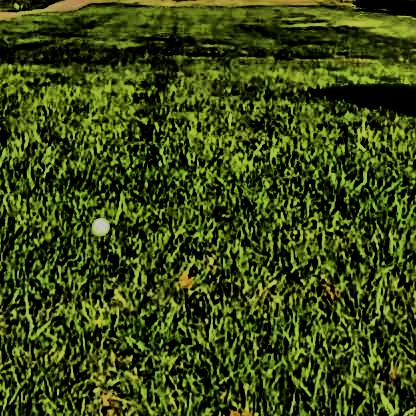golfball: (89, 213, 108, 232)
